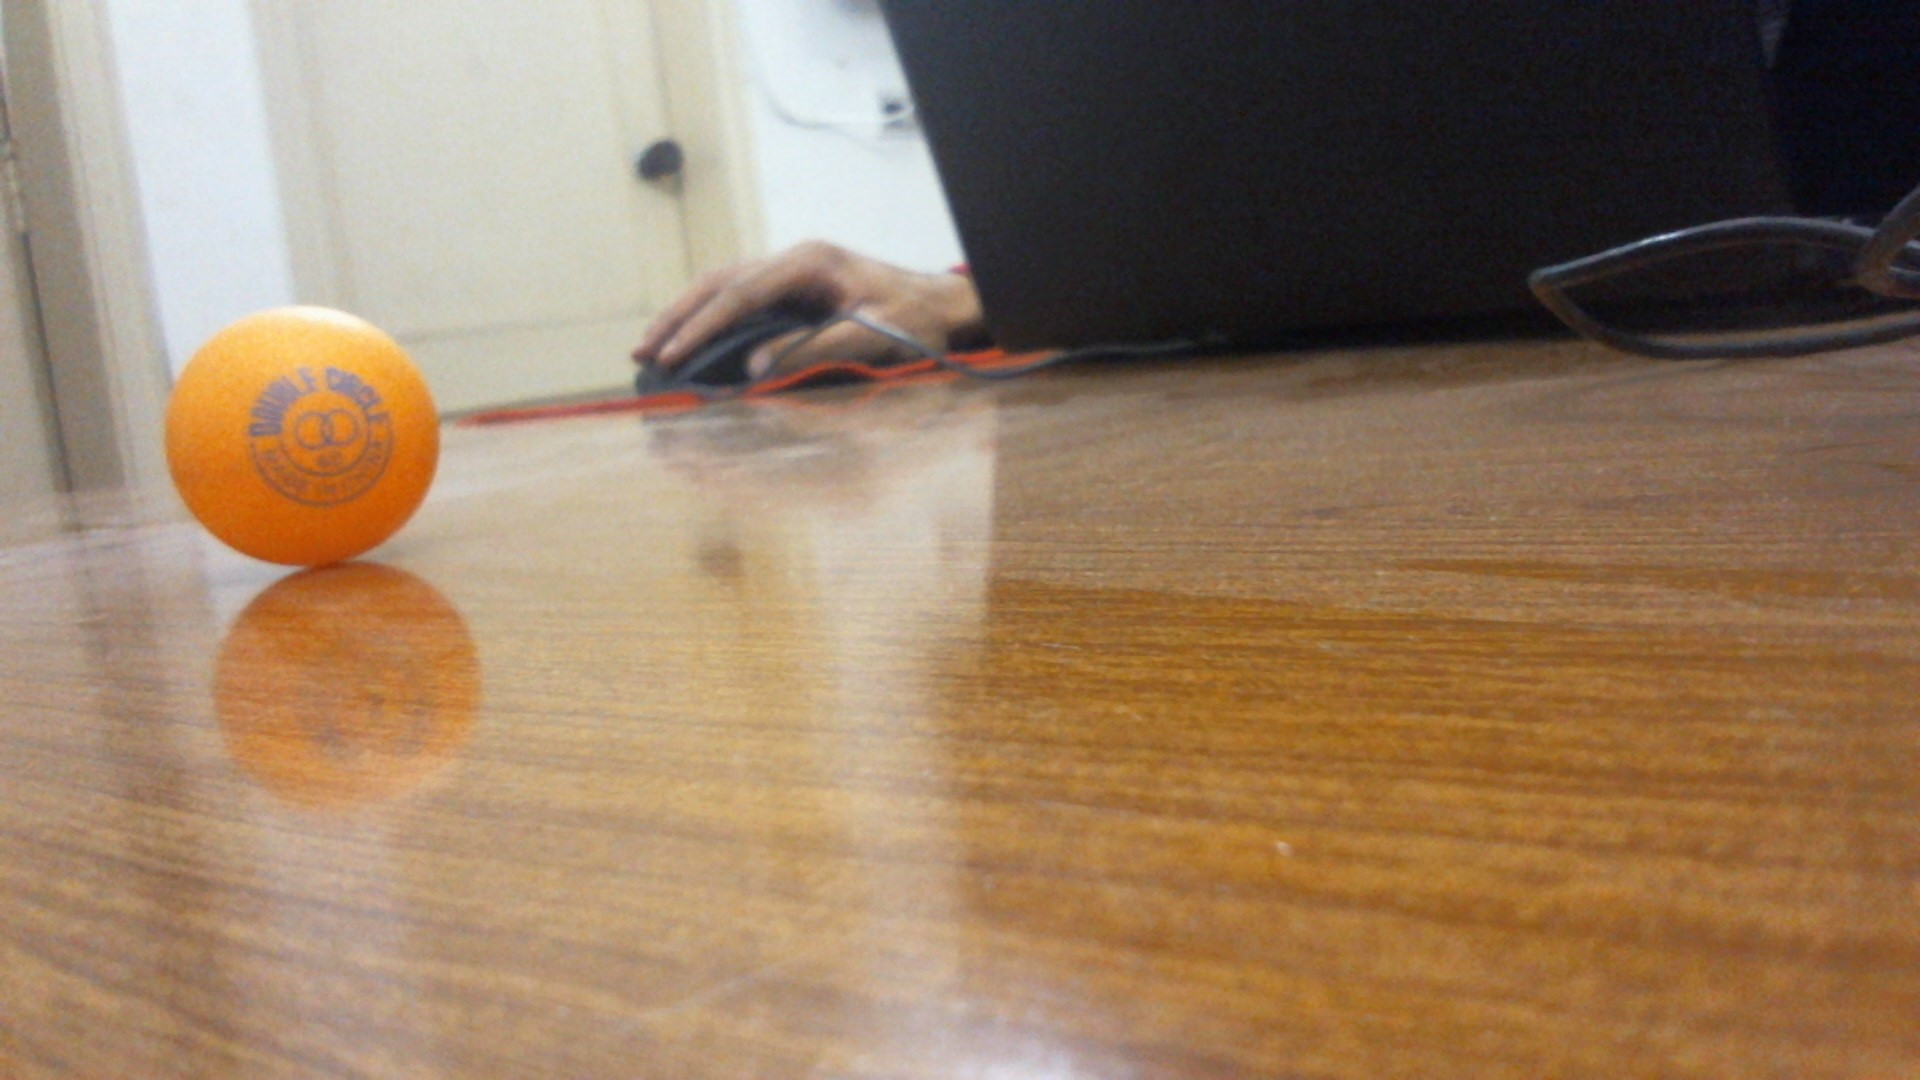ball: (164, 302, 443, 568)
